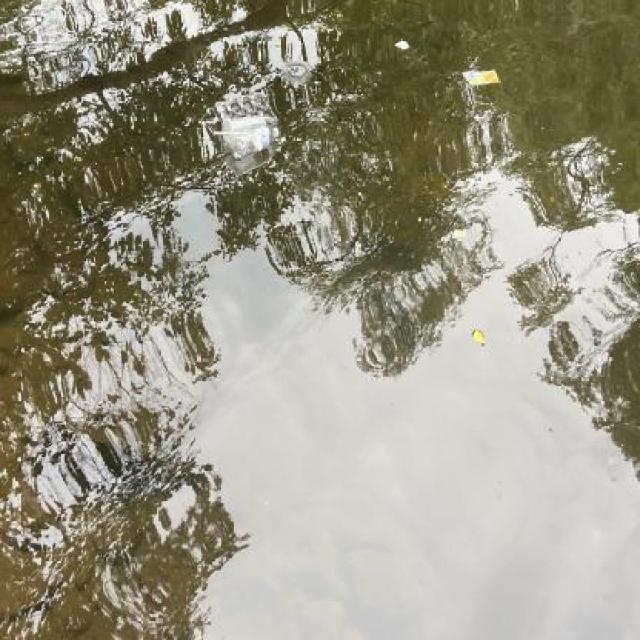Cardboard: (457, 64, 506, 93)
Plastic: (213, 91, 278, 154)
